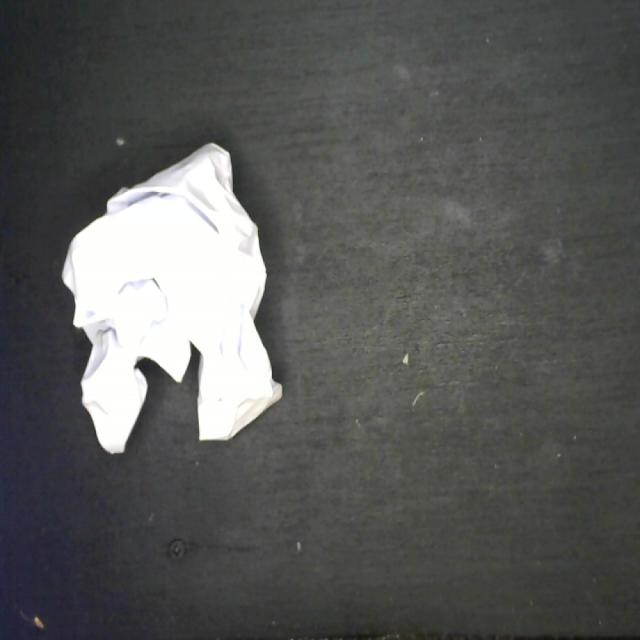biodegradable: (55, 138, 282, 456)
